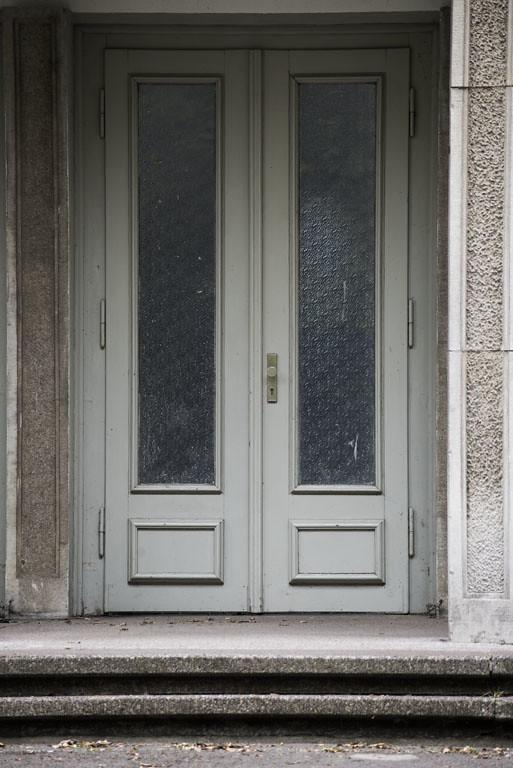door: (72, 27, 431, 617)
